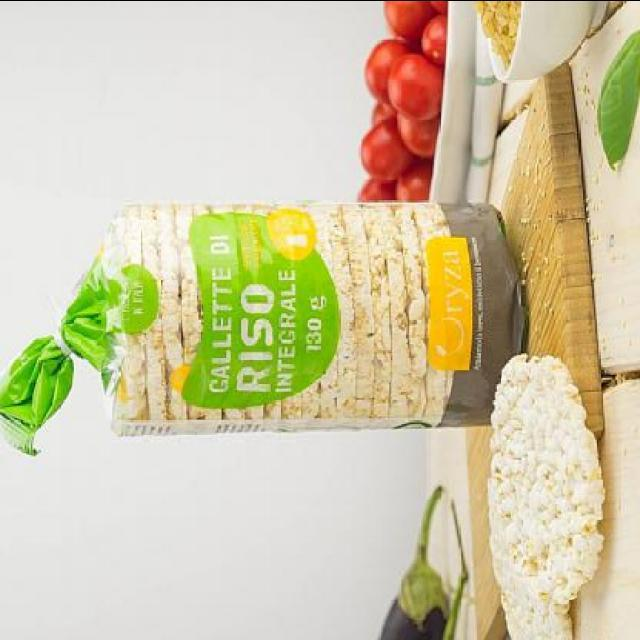Gallette di riso: (88, 195, 520, 438)
Gallette di riso packaged: (490, 355, 607, 607)
